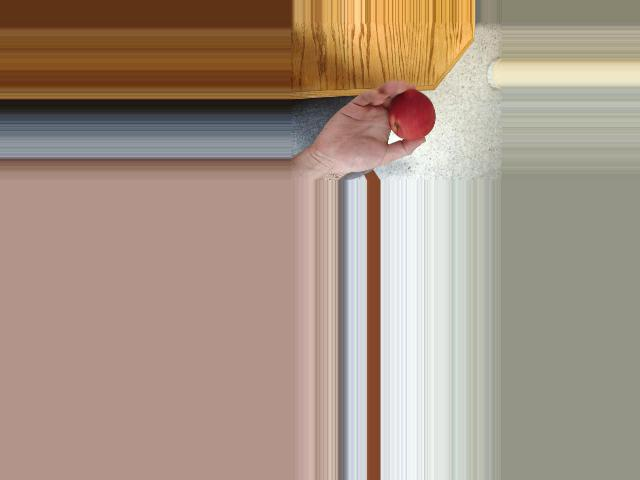apple: (381, 89, 436, 145)
